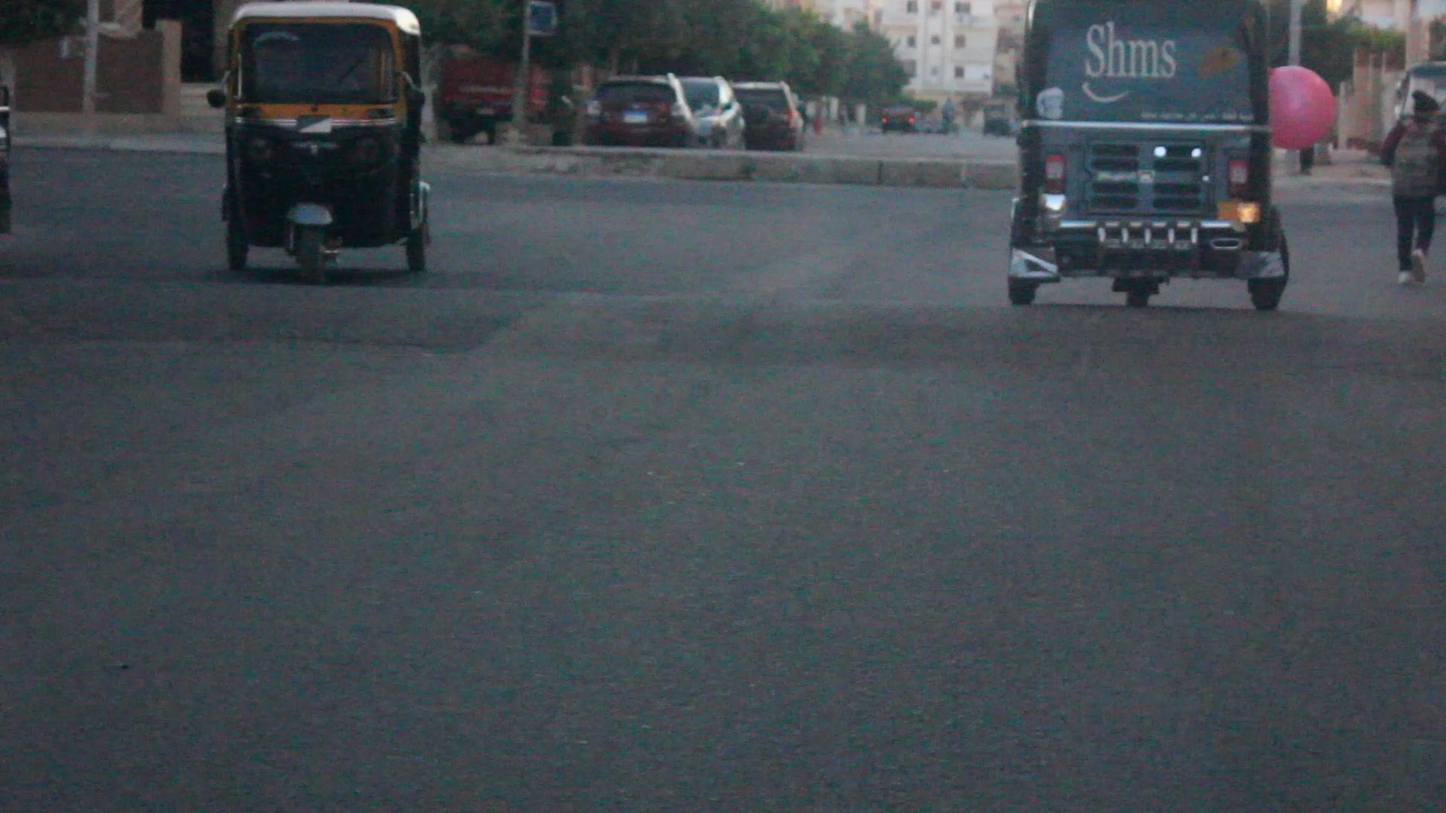Bump: (0, 254, 1446, 397)
